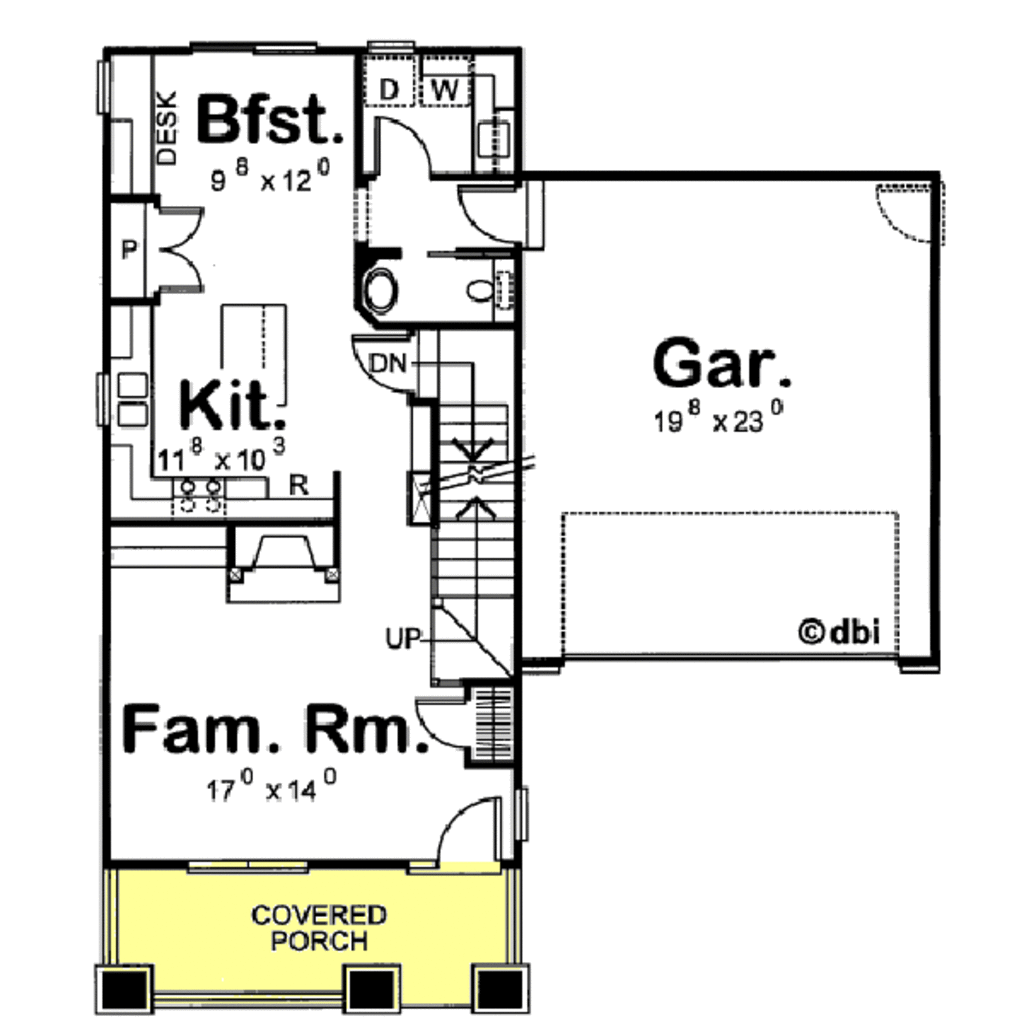door: (399, 795, 517, 881), (452, 174, 565, 255), (868, 168, 969, 257), (152, 193, 217, 301), (363, 111, 442, 189), (404, 690, 477, 758), (353, 332, 417, 393)
large_sink: (450, 257, 520, 325)
small_sink: (358, 262, 414, 325)
stairs: (409, 330, 541, 682)
twin_sink: (115, 370, 160, 436)
window: (190, 36, 315, 55), (87, 52, 119, 124), (187, 854, 311, 868)
